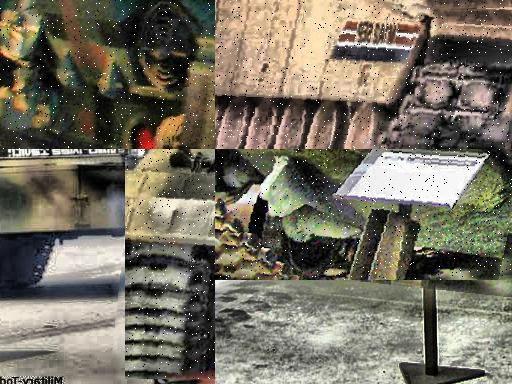tanks: (216, 1, 512, 150), (1, 1, 216, 150), (216, 150, 391, 281), (1, 150, 159, 289), (127, 150, 216, 380)
